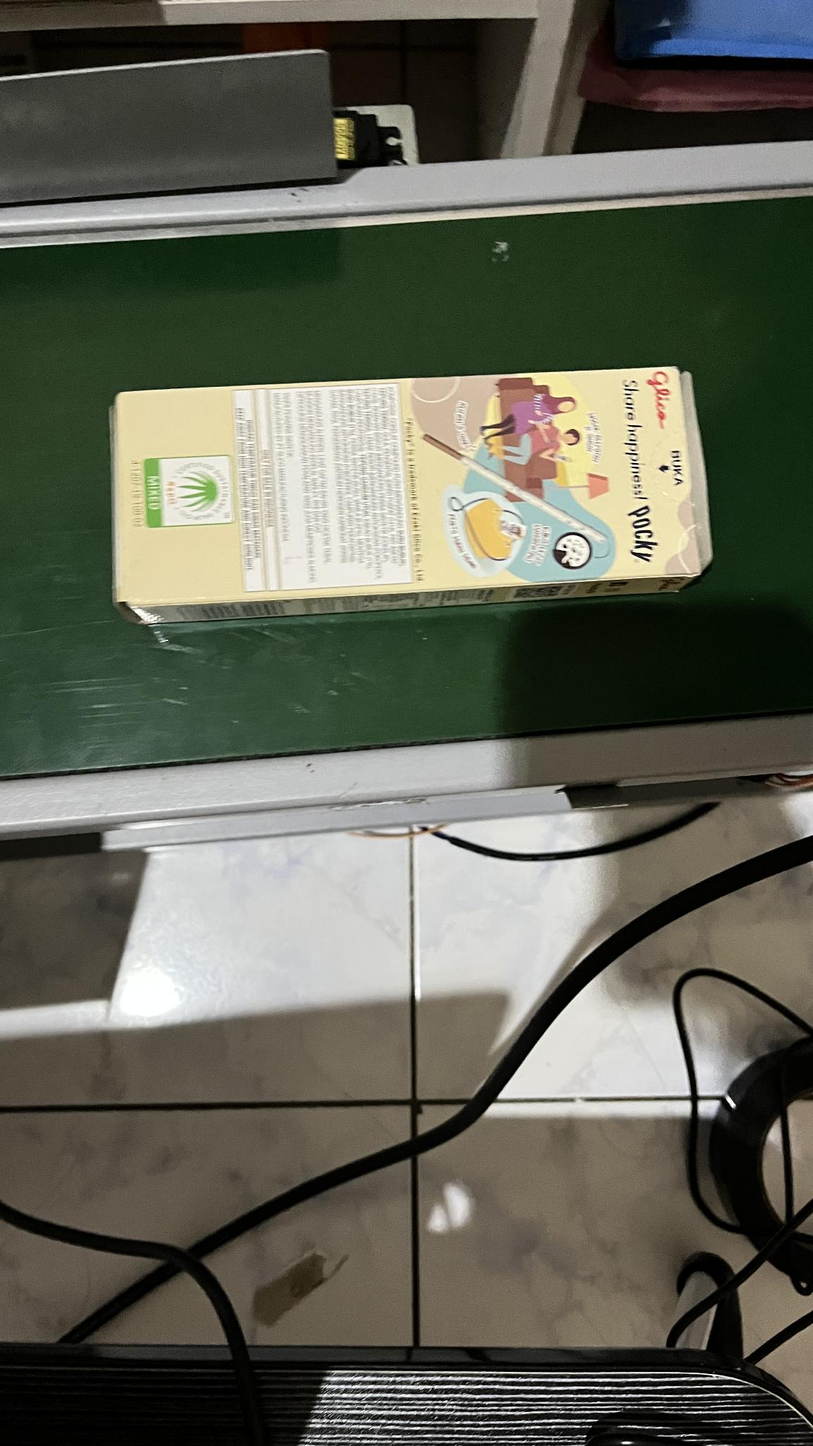Kertas: (118, 369, 728, 592)
